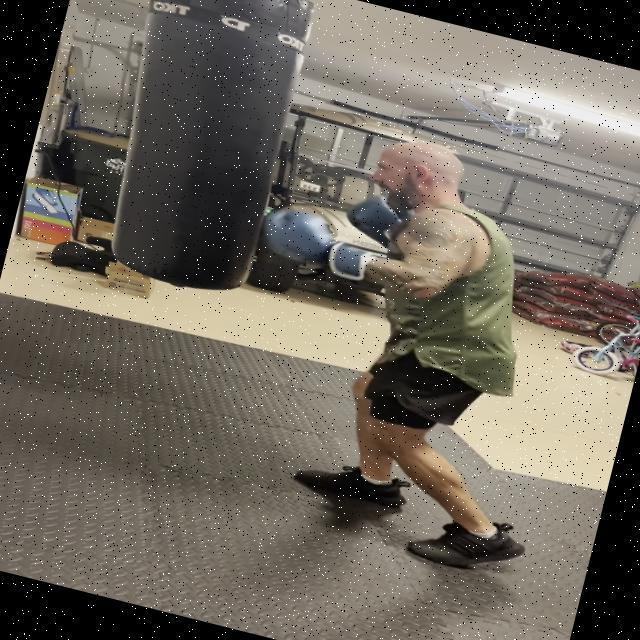bag: (81, 0, 331, 307)
hook: (228, 100, 541, 328)
